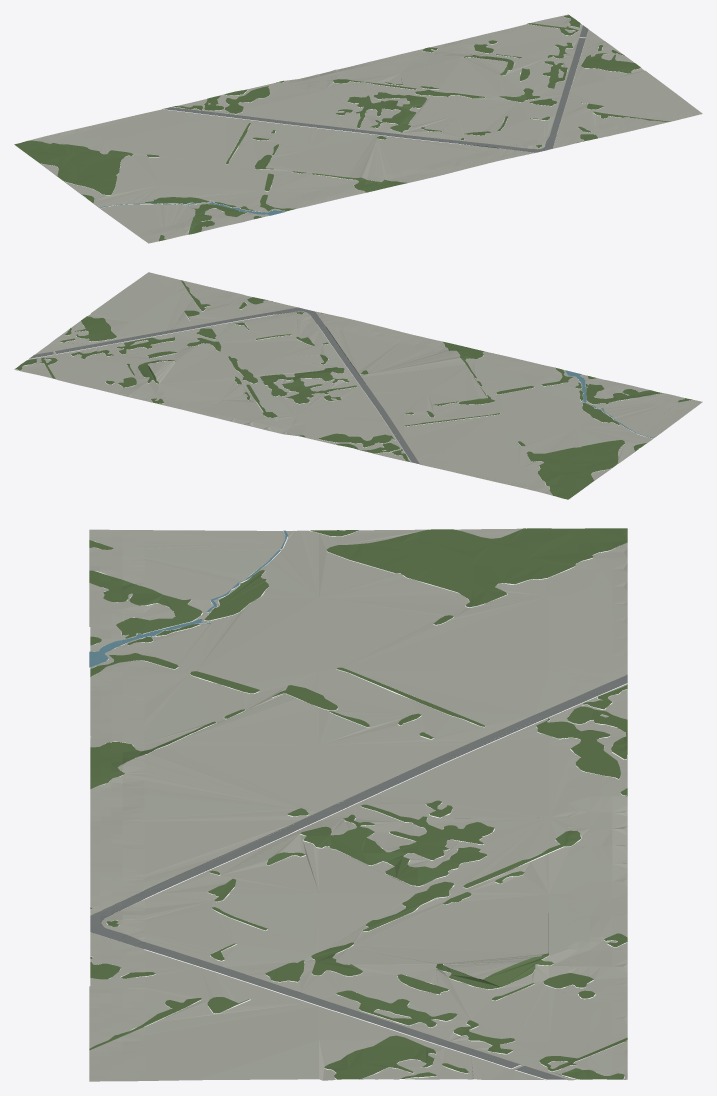
Rendered from clarkson-harding-mainland-completion.glb.
3 views of the same model, one above another, from view 1: azimuth 30°, elevation 25°; view 2: azimuth 150°, elevation 25°; view 3: azimuth 270°, elevation 25° (orthographic). The views are drawn at different scales.
Parts seen in each view (by area): view 1: Mapped-source-mainland-completion; view 2: Mapped-source-mainland-completion; view 3: Mapped-source-mainland-completion, Mapped-source-creek-completion.
Part boxes in pixels (x1,y1,x2,y2): Mapped-source-mainland-completion: (14, 14, 702, 243); Mapped-source-mainland-completion: (14, 272, 702, 499); Mapped-source-mainland-completion: (89, 528, 627, 1081); Mapped-source-creek-completion: (89, 530, 287, 667).
Size of the model in its own units: 1150 by 13.57 by 484.
